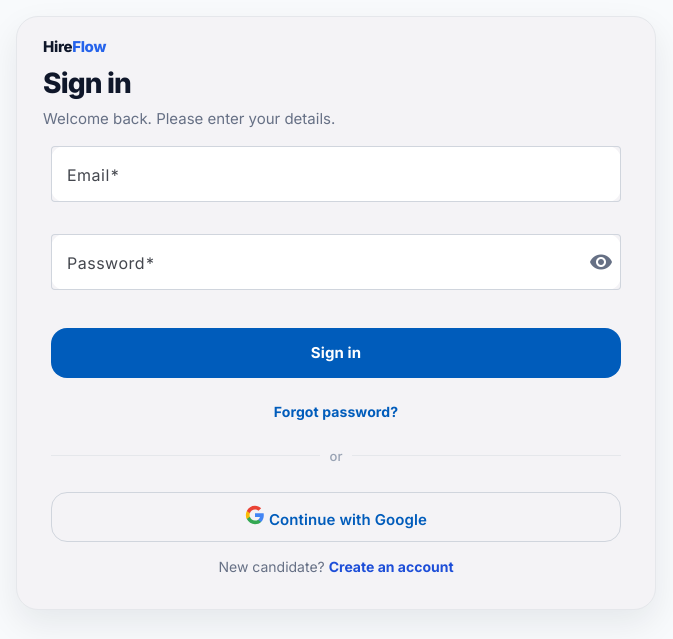
it: Login page › allows typing email and toggling password visibility
The width and height of the screenshot is (673, 639).
Check: the 1st text "Sign in" is shown, box [43,66,131,100]
In the field named "email": point(336, 172) [67,160,605,184], type "admin@example.com"
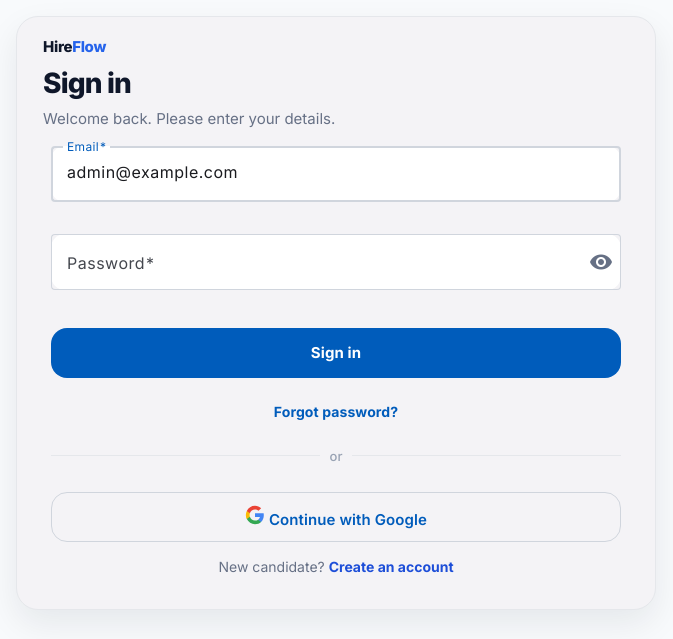
In the password field named "password": point(322, 260) [67,248,577,272], type "testpassword"
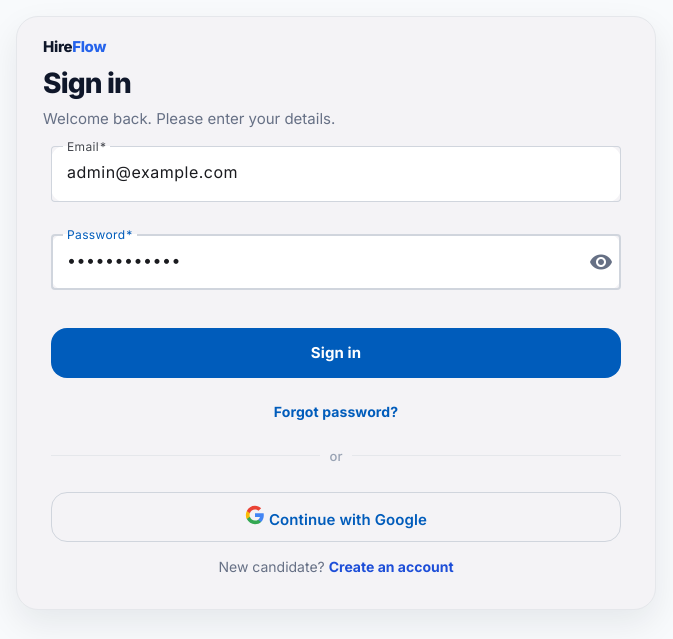
Click the button named "Show password": point(601, 262) [581,242,621,282]
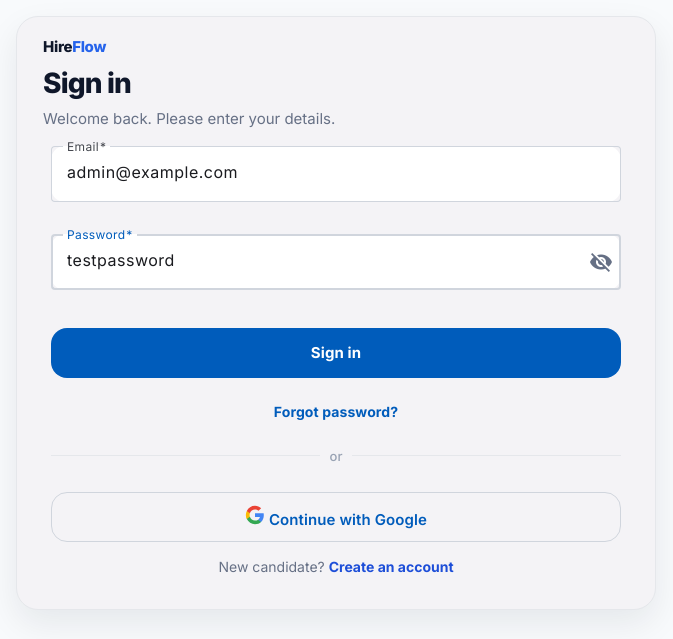
Check: the field named "password" shows its text, box [67,248,577,272]
Click the button named "Hide password": point(601, 262) [581,242,621,282]
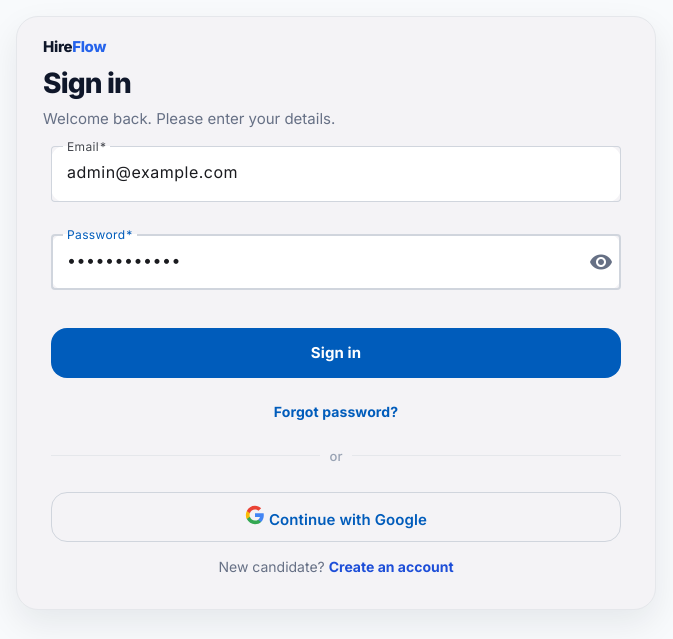
Check: the password field named "password" hides its text, box [67,248,577,272]
